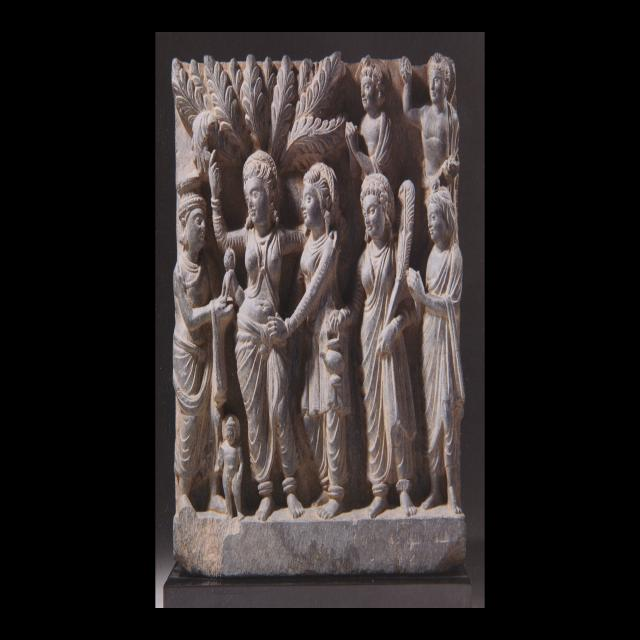buddha-standing: (209, 153, 305, 520)
